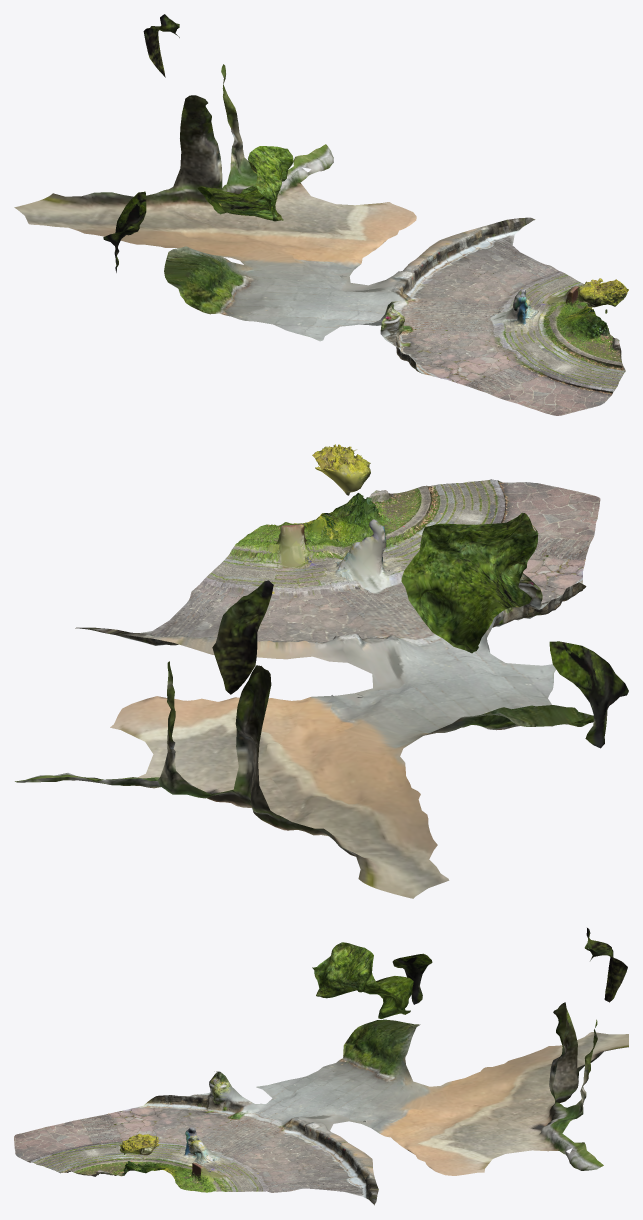
3 renders of one model, top to bottom at view 1: azimuth 30°, elevation 25°; view 2: azimuth 150°, elevation 25°; view 3: azimuth 270°, elevation 25°, orthographic. The views are drawn at different scales.
Visible parts, largest first — view 1: baked_mesh_6b632ec9; view 2: baked_mesh_6b632ec9; view 3: baked_mesh_6b632ec9.
Part boxes in pixels (x1,y1,x2,y2): baked_mesh_6b632ec9: (14,14,628,415); baked_mesh_6b632ec9: (15,444,628,898); baked_mesh_6b632ec9: (14,928,628,1205).
Size of the model in its own units: 6.12 by 2.69 by 8.67.
Materials: 1 (1 with a texture image).
